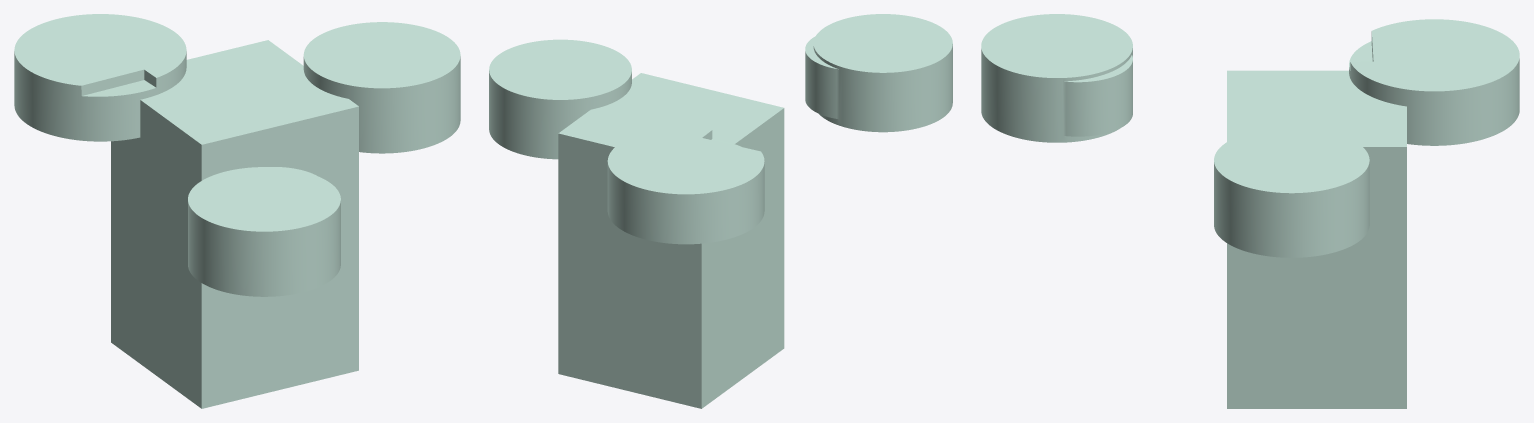
3 views of the same model, side by side, from view 1: azimuth 30°, elevation 25°; view 2: azimuth 150°, elevation 25°; view 3: azimuth 270°, elevation 25° (orthographic). The views are drawn at different scales.
Visible parts, largest first — view 1: Renderer Node; view 2: Renderer Node; view 3: Renderer Node.
Part boxes in pixels (bbox=[...]): Renderer Node: bbox=[14, 14, 460, 408]; Renderer Node: bbox=[489, 14, 952, 408]; Renderer Node: bbox=[981, 14, 1519, 408].
Bounding box in the file's own units: 0.8822 × 0.6406 × 1.12.
